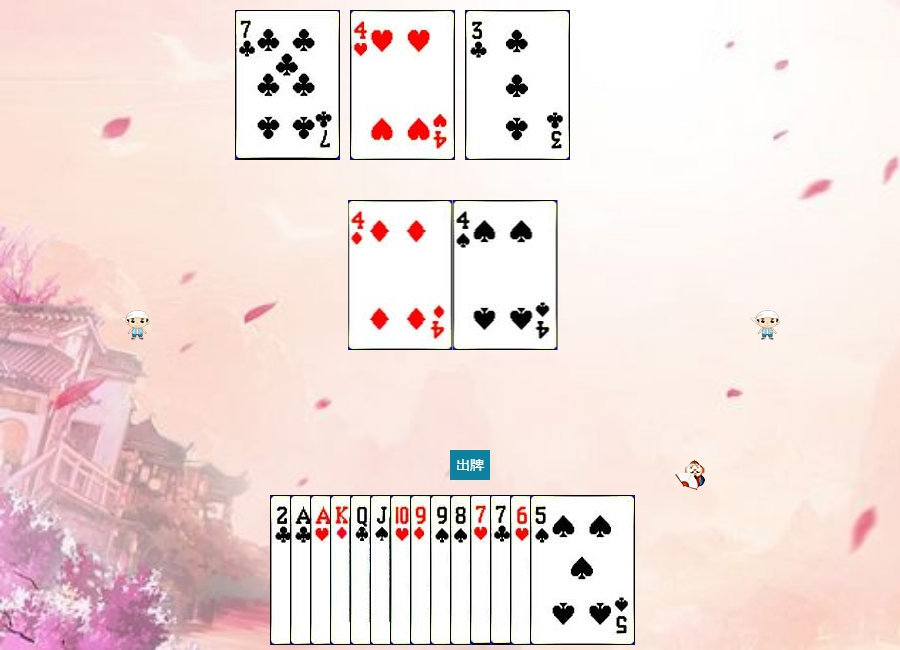10~3: (390, 495, 495, 645)
11~4: (370, 495, 475, 645)
12~2: (350, 495, 455, 645)
13~1: (330, 495, 435, 645)
14~2: (290, 495, 395, 645)
14~3: (310, 495, 415, 645)
15~2: (270, 495, 375, 645)
3~2: (465, 10, 570, 160)
4~1: (348, 200, 453, 350)
4~3: (350, 10, 455, 160)
4~4: (453, 200, 558, 350)
5~4: (530, 495, 635, 645)
6~3: (510, 495, 615, 645)
7~2: (235, 10, 340, 160), (490, 495, 595, 645)
7~3: (470, 495, 575, 645)
8~4: (450, 495, 555, 645)
9~1: (410, 495, 515, 645)
9~4: (430, 495, 535, 645)
